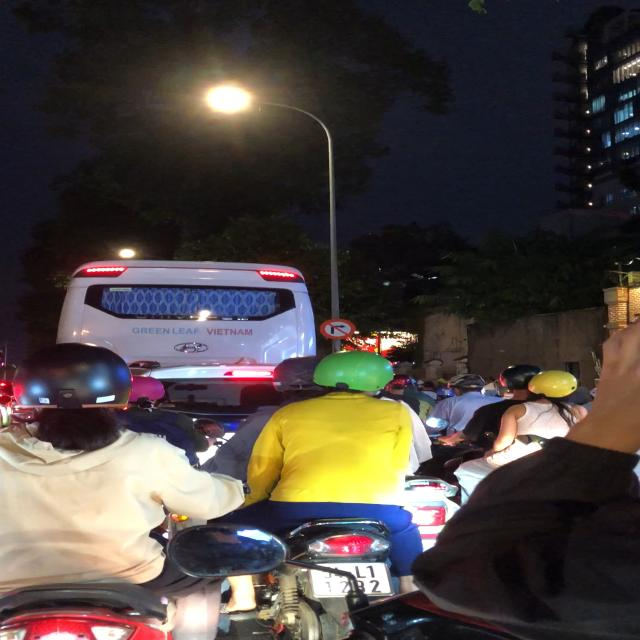Bien bao cam re phai: (316, 318, 356, 340)
